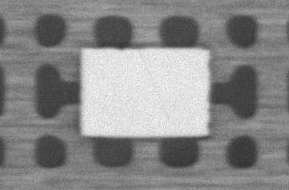DIE_CRACK: (211, 33, 260, 82)
